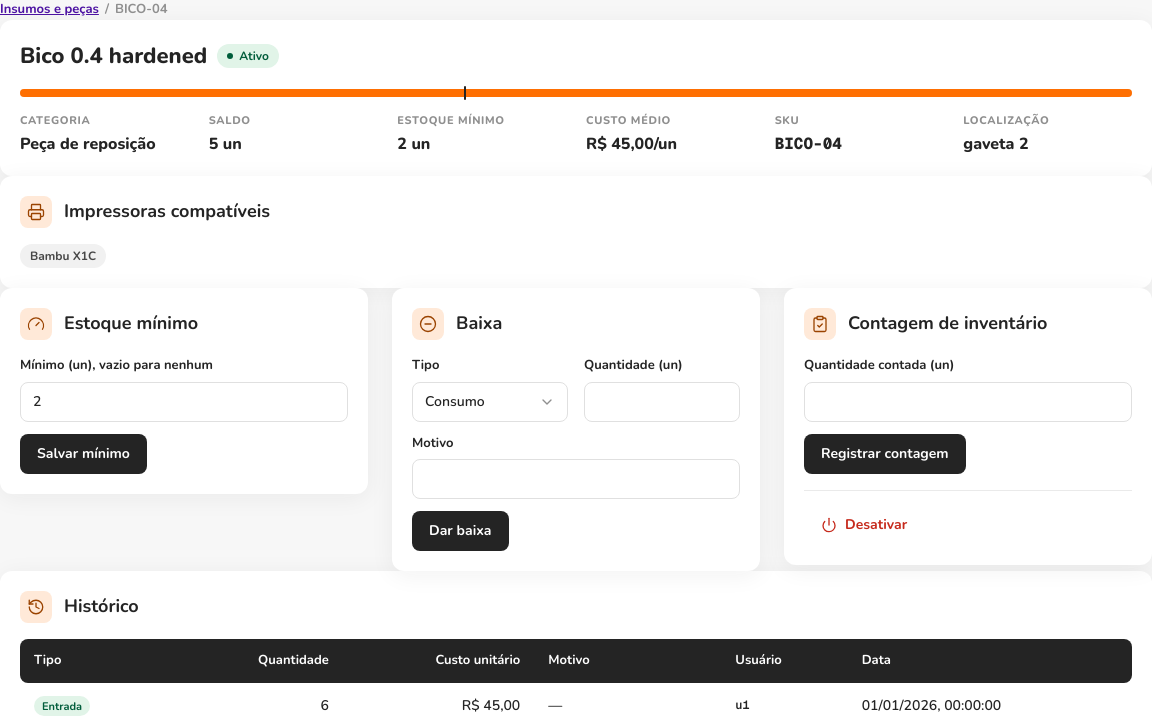
Test: Stock item detail page › confirms before deactivating the item
expect the text "entrada" is shown: met, box [34,696,90,716]
Click the button "Desativar".
click(864, 524)  # box [804,504,924,544]
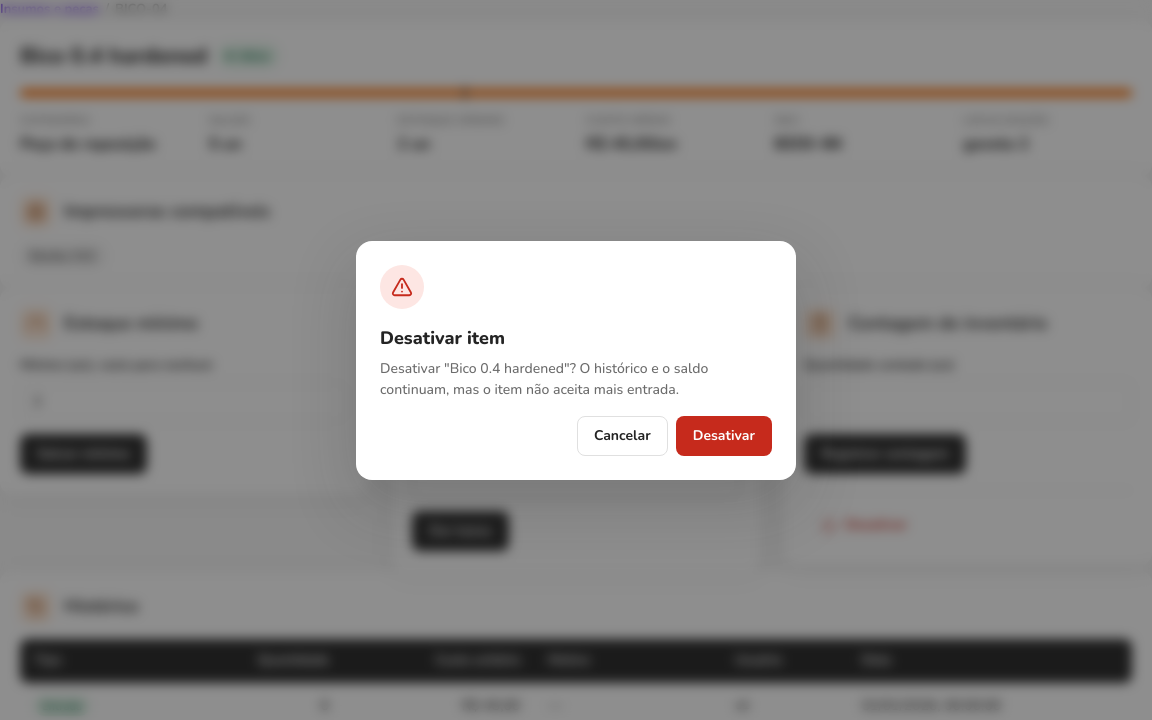
Click the button "Cancelar".
click(622, 436)  # box [577,416,668,456]
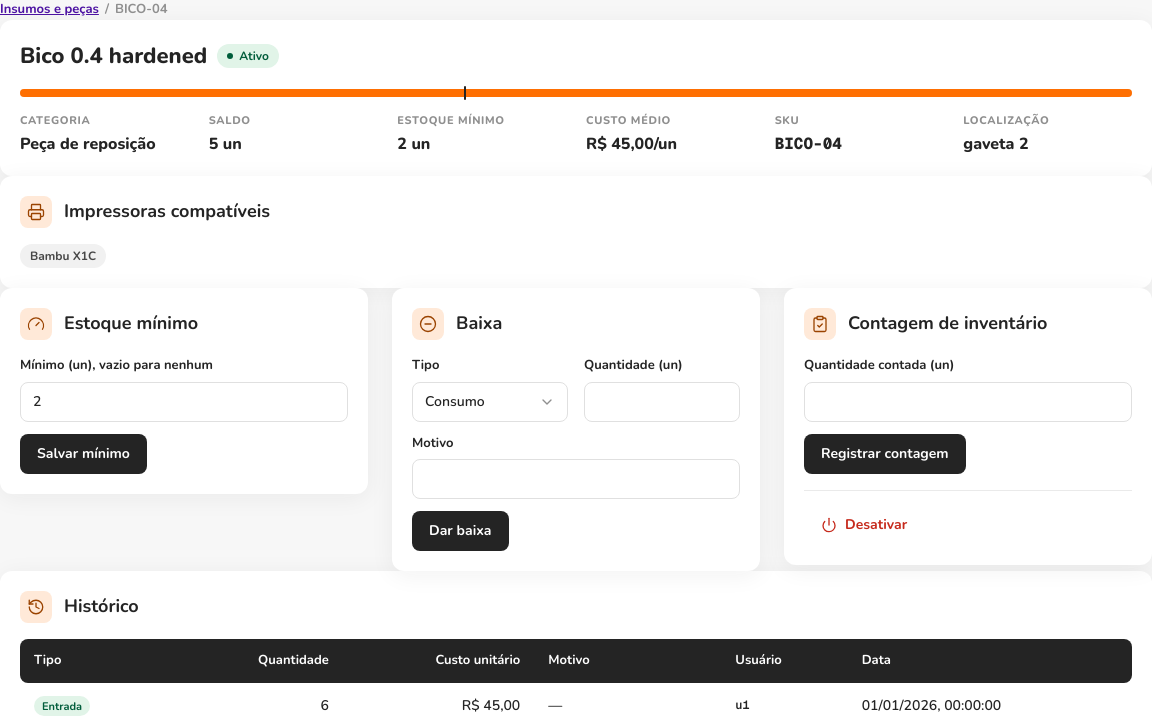
expect the dialog is gone: met
Click the button "Desativar".
click(864, 524)  # box [804,504,924,544]
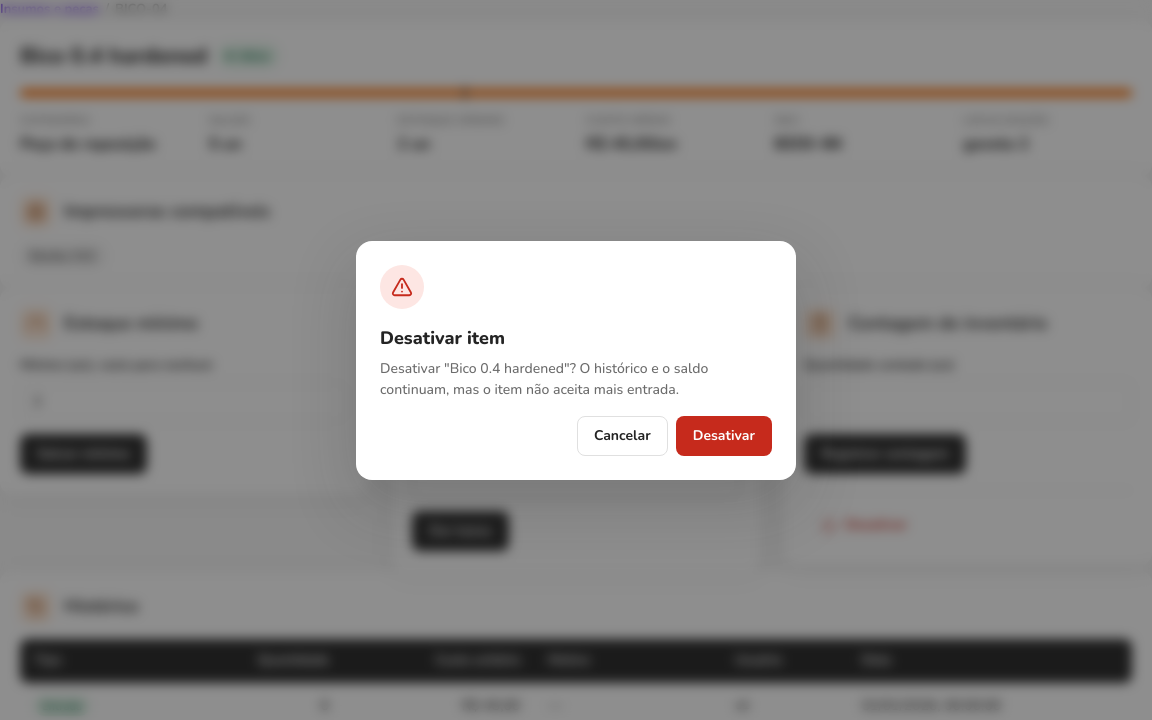
Click the button "Desativar".
click(724, 436)  # box [676,416,772,456]
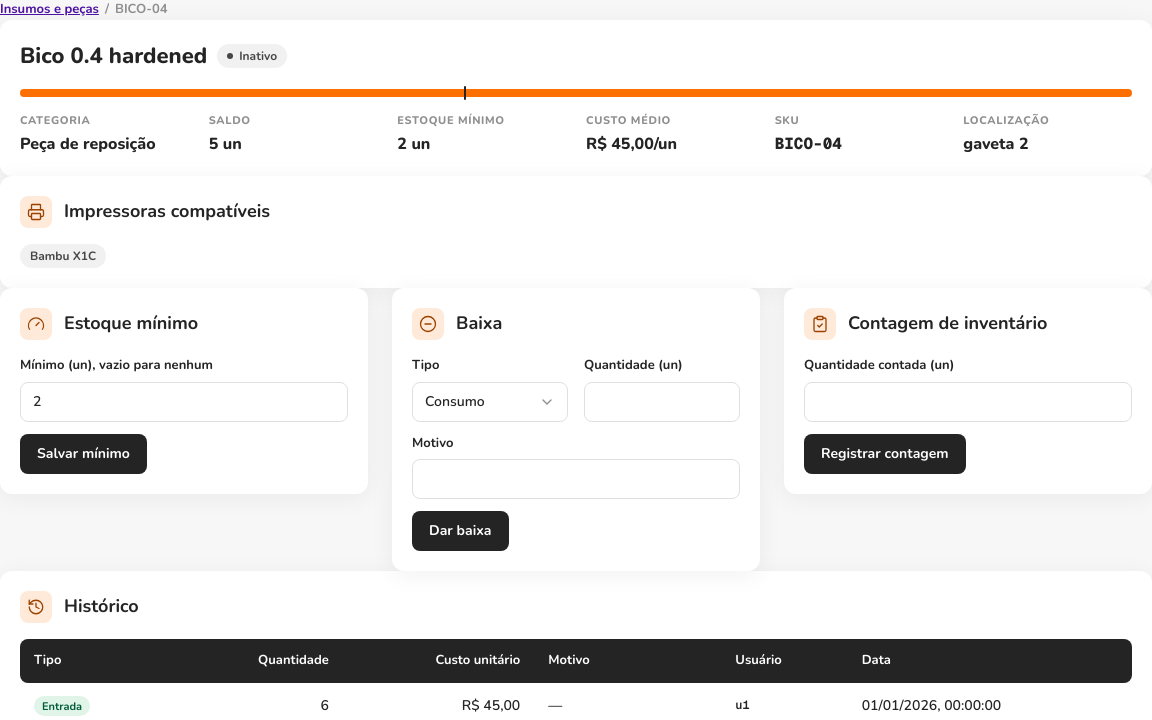
expect the text "Inativo" is shown: met, box [217,44,287,68]
